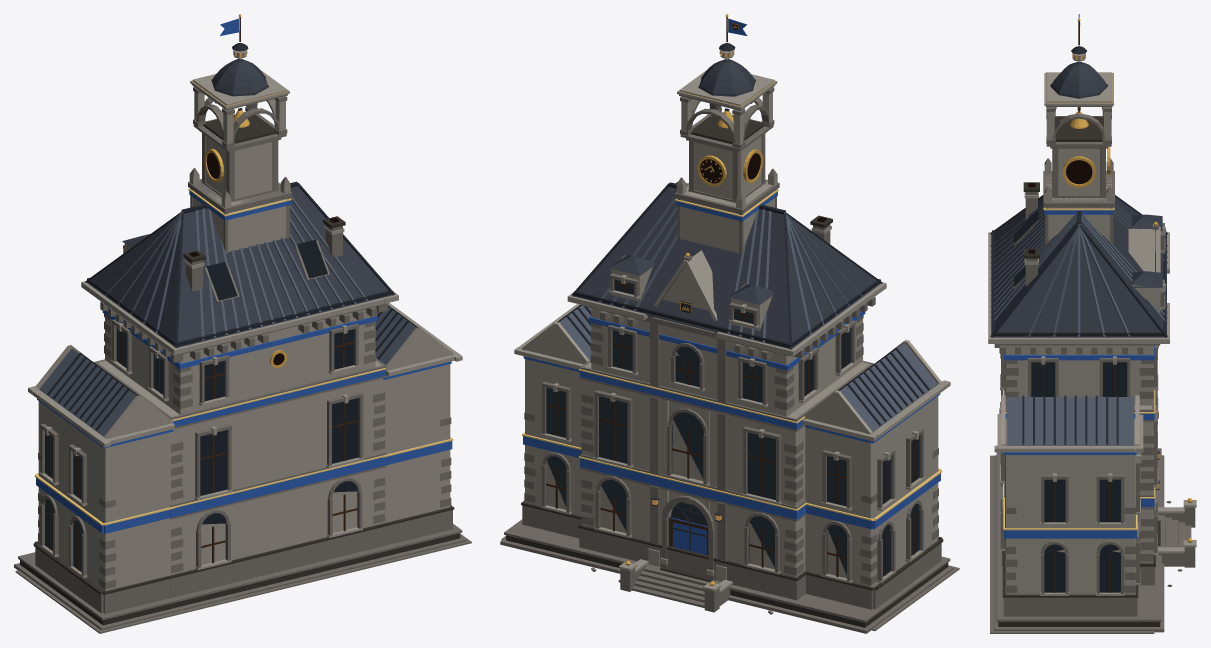
Rendered from 城镇大厅_手游_近.glb.
3 views of the same model, side by side, from view 1: azimuth 30°, elevation 25°; view 2: azimuth 150°, elevation 25°; view 3: azimuth 270°, elevation 25° (orthographic). The views are drawn at different scales.
Visible parts, largest first — view 1: TH-主体, TH-自发光, TH-team, TH-team_trim; view 2: TH-主体, TH-自发光, TH-team, TH-team_trim; view 3: TH-主体, TH-自发光, TH-team, TH-team_trim.
Boxes of the visible parts, x1,y1,x2,y2 form: TH-主体: (14,14,471,633); TH-自发光: (45,50,358,571); TH-team: (36,18,452,533); TH-team_trim: (34,18,453,525); TH-主体: (500,14,959,633); TH-自发光: (546,23,919,576); TH-team: (523,18,940,554); TH-team_trim: (522,18,942,520); TH-主体: (988,18,1196,633); TH-自发光: (1014,54,1158,592); TH-team: (1003,14,1154,538); TH-team_trim: (1003,207,1155,530).
Size of the model in its own units: 18.1 by 25.18 by 8.99.
Materials: 4 (2 with a texture image).
